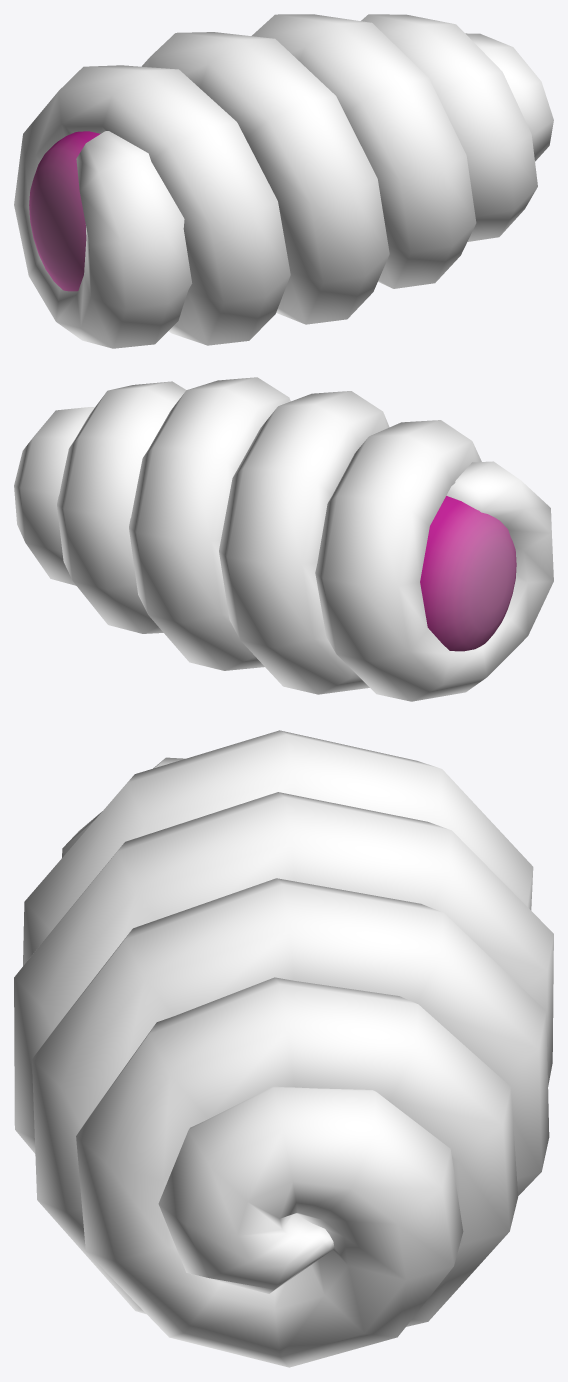
Rendered from Vienna_tube_03.fbx.
3 renders of one model, top to bottom at view 1: azimuth 30°, elevation 25°; view 2: azimuth 150°, elevation 25°; view 3: azimuth 270°, elevation 25°, orthographic. The views are drawn at different scales.
Parts seen in each view (by area): view 1: Vienna_tube_03; view 2: Vienna_tube_03; view 3: Vienna_tube_03.
Part boxes in pixels (bbox=[...]): Vienna_tube_03: bbox=[14, 14, 553, 348]; Vienna_tube_03: bbox=[14, 377, 553, 701]; Vienna_tube_03: bbox=[14, 730, 553, 1367].
Size of the model in its own units: 136 by 80.01 by 74.26.
